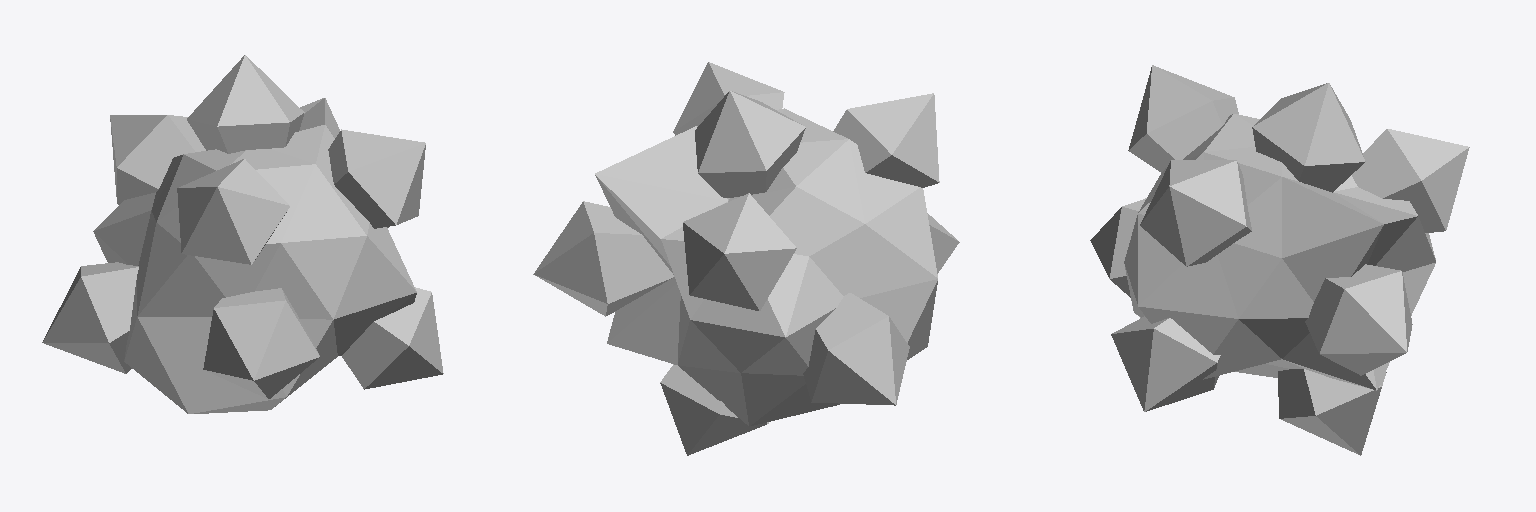
File: PowerUp.obj
3 renders of one model, left to right at view 1: azimuth 30°, elevation 25°; view 2: azimuth 150°, elevation 25°; view 3: azimuth 270°, elevation 25°, orthographic.
Visible parts, largest first — view 1: Cristal_Cylinder.003; view 2: Cristal_Cylinder.003; view 3: Cristal_Cylinder.003.
Boxes of the visible parts, x1,y1,x2,y2 form: Cristal_Cylinder.003: [42, 55, 443, 413]; Cristal_Cylinder.003: [533, 62, 959, 455]; Cristal_Cylinder.003: [1090, 65, 1469, 455].
Size of the model in its own units: 1.05 by 1.05 by 1.01.